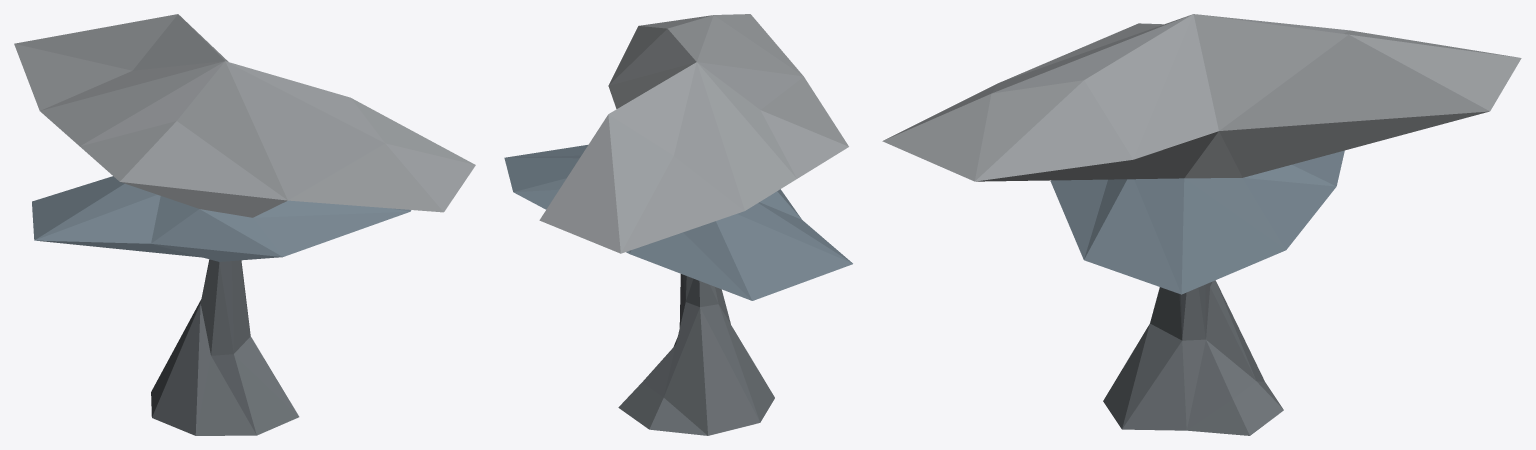
Rendered from rock01.fbx.
3 views of the same model, side by side, from view 1: azimuth 30°, elevation 25°; view 2: azimuth 150°, elevation 25°; view 3: azimuth 270°, elevation 25° (orthographic). The views are drawn at different scales.
Visible parts, largest first — view 1: pCylinder2; view 2: pCylinder2; view 3: pCylinder2.
Part boxes in pixels (x1,y1,x2,y2): pCylinder2: (14,14,475,435); pCylinder2: (504,14,852,435); pCylinder2: (882,14,1521,435).
Size of the model in its own units: 0.1483 by 0.1307 by 0.1926.
